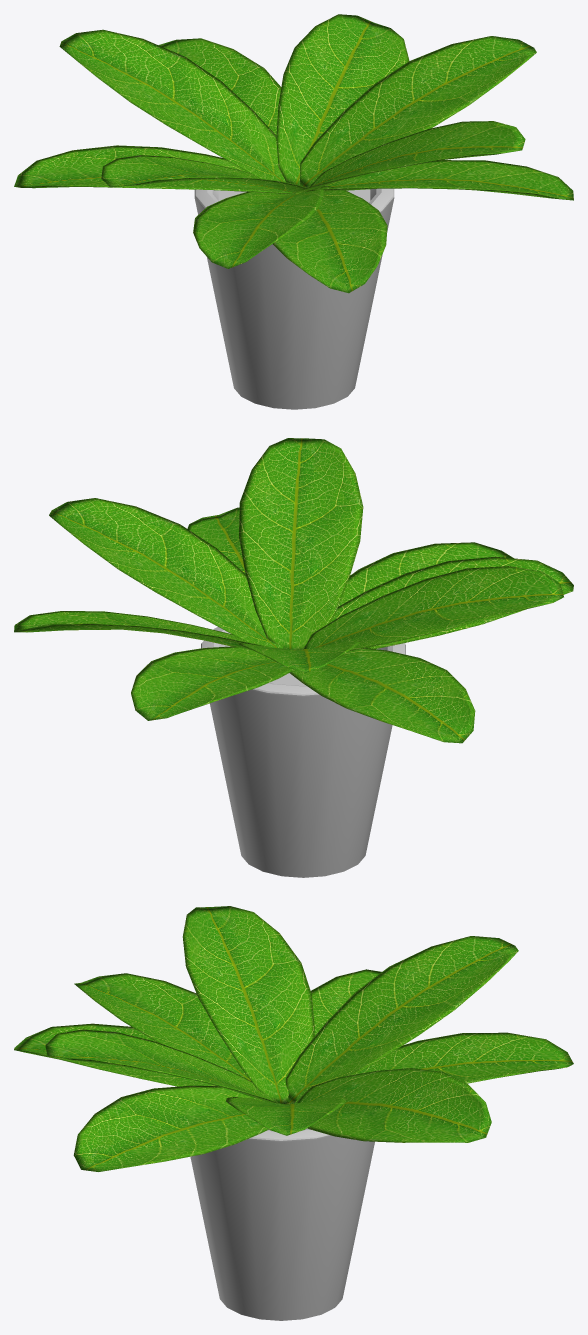
The model's file is Plant 1.FBX.
3 renders of one model, top to bottom at view 1: azimuth 30°, elevation 25°; view 2: azimuth 150°, elevation 25°; view 3: azimuth 270°, elevation 25°, orthographic. The views are drawn at different scales.
Visible parts, largest first — view 1: plant 1; view 2: plant 1; view 3: plant 1.
Part boxes in pixels (bbox=[...]): plant 1: bbox=[14, 14, 573, 409]; plant 1: bbox=[14, 438, 573, 877]; plant 1: bbox=[14, 906, 573, 1320].
Size of the model in its own units: 40.51 by 24.69 by 41.96.
